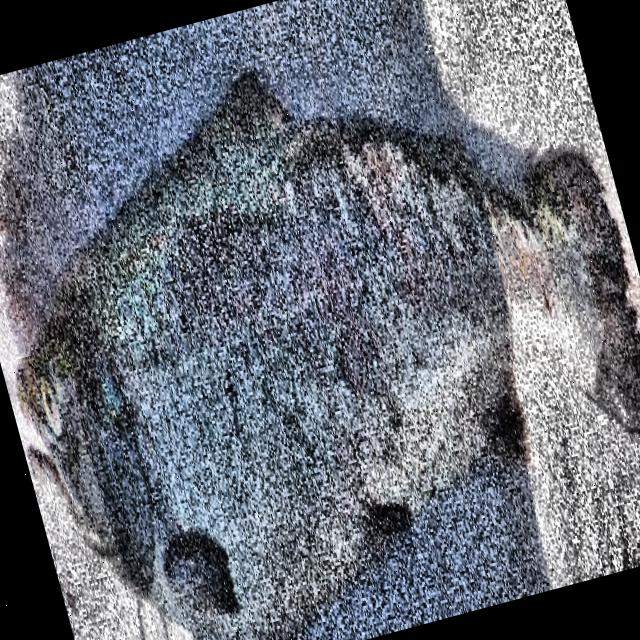mild_red: (55, 74, 554, 640)
